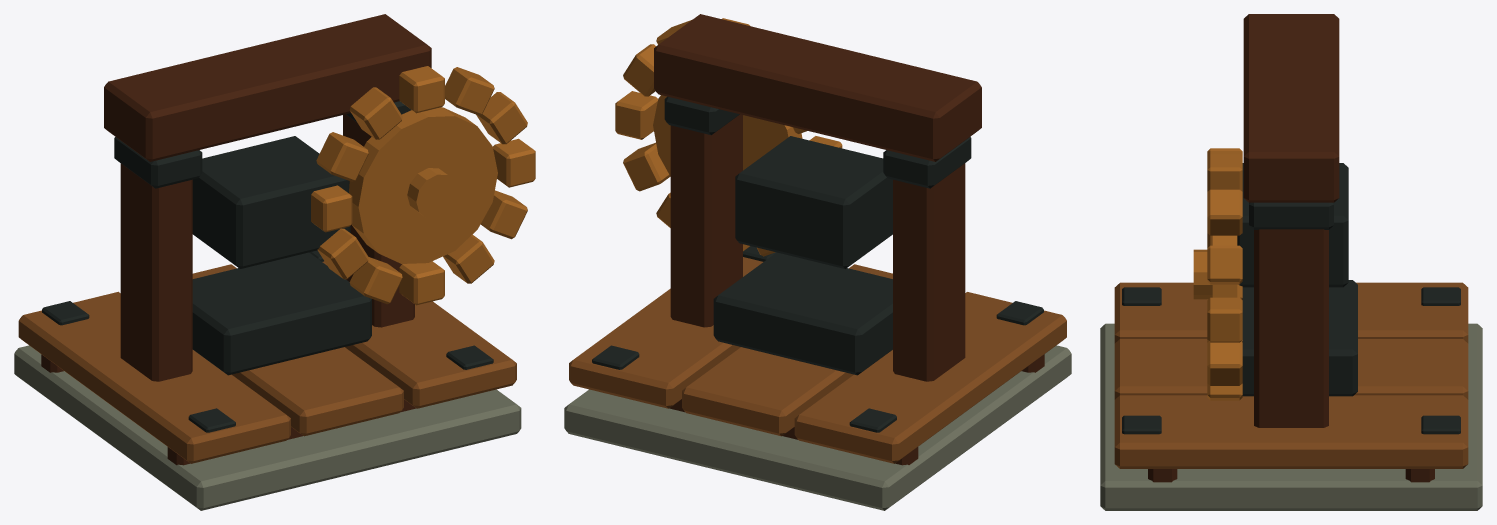
File: press.glb
3 renders of one model, left to right at view 1: azimuth 30°, elevation 25°; view 2: azimuth 150°, elevation 25°; view 3: azimuth 270°, elevation 25°, orthographic.
Visible parts, largest first — view 1: press_body, Hub.003, Hammer head; view 2: press_body, Hammer head, Hub.003; view 3: press_body, Hub.003, Hammer head.
Boxes of the visible parts, bbox=[...] form: press_body: bbox=[14, 14, 521, 510]; Hub.003: bbox=[311, 66, 535, 305]; Hammer head: bbox=[192, 136, 350, 268]; press_body: bbox=[564, 14, 1071, 510]; Hammer head: bbox=[735, 136, 892, 268]; Hub.003: bbox=[615, 18, 842, 256]; press_body: bbox=[1100, 14, 1482, 510]; Hub.003: bbox=[1193, 148, 1242, 400]; Hammer head: bbox=[1237, 163, 1348, 287].
Bounding box in the file's own units: 2.23 × 1.85 × 1.84.
